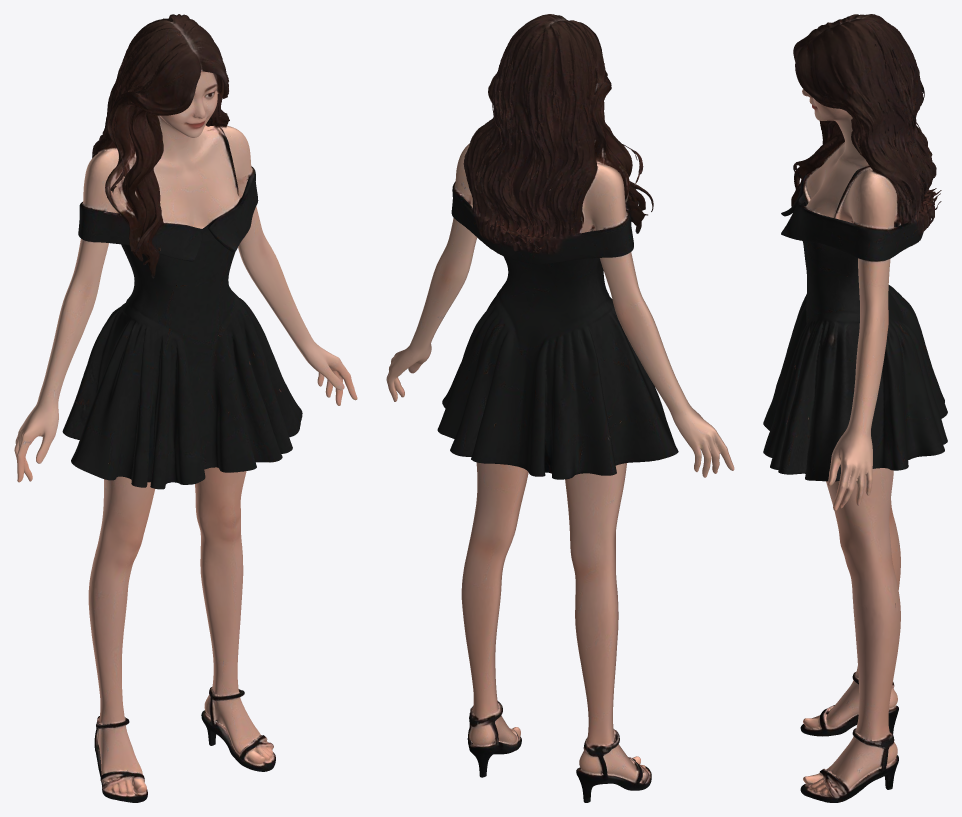
File: elegance-dress.glb
The picture shows the model from 3 angles, left to right: view 1: azimuth 30°, elevation 25°; view 2: azimuth 150°, elevation 25°; view 3: azimuth 270°, elevation 25°; orthographic projection.
Parts seen in each view (by area): view 1: mesh_0; view 2: mesh_0; view 3: mesh_0.
Boxes of the visible parts, bbox=[...] form: mesh_0: bbox=[14, 14, 357, 802]; mesh_0: bbox=[386, 14, 734, 802]; mesh_0: bbox=[763, 14, 947, 802].
Size of the model in its own units: 0.9018 by 1.9 by 0.4256.
Materials: 1 (1 with a texture image).
